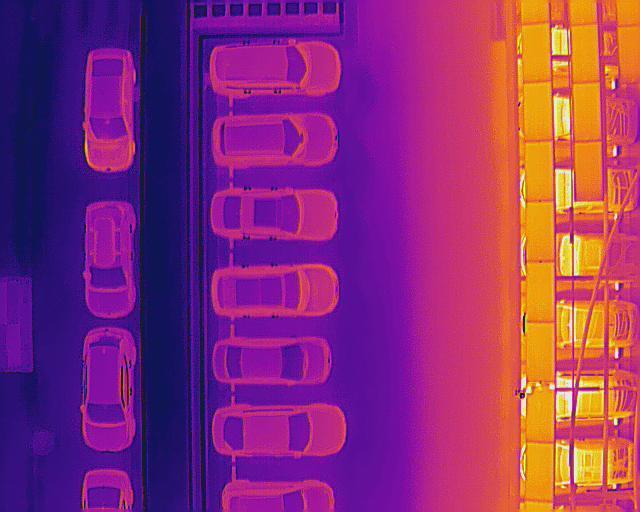Cell-Multi: (525, 381, 555, 443)
No-Anomaly: (573, 142, 606, 202), (571, 82, 603, 142), (521, 83, 553, 142), (525, 262, 556, 322), (525, 443, 556, 501), (525, 200, 554, 262), (521, 22, 550, 82), (525, 141, 553, 201), (526, 323, 554, 381), (570, 25, 598, 83), (618, 25, 640, 84)
